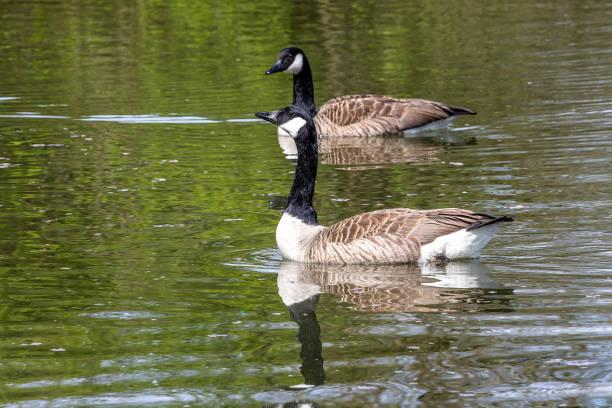Canadian-Goose: (255, 104, 514, 258), (265, 47, 478, 131)
